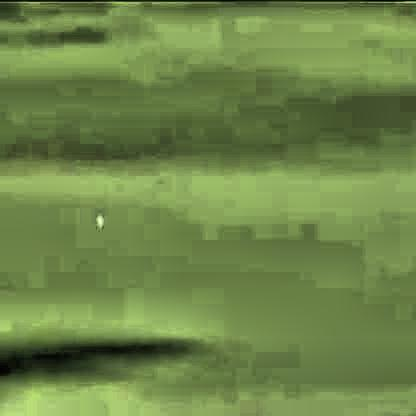golfball: (94, 210, 104, 223)
